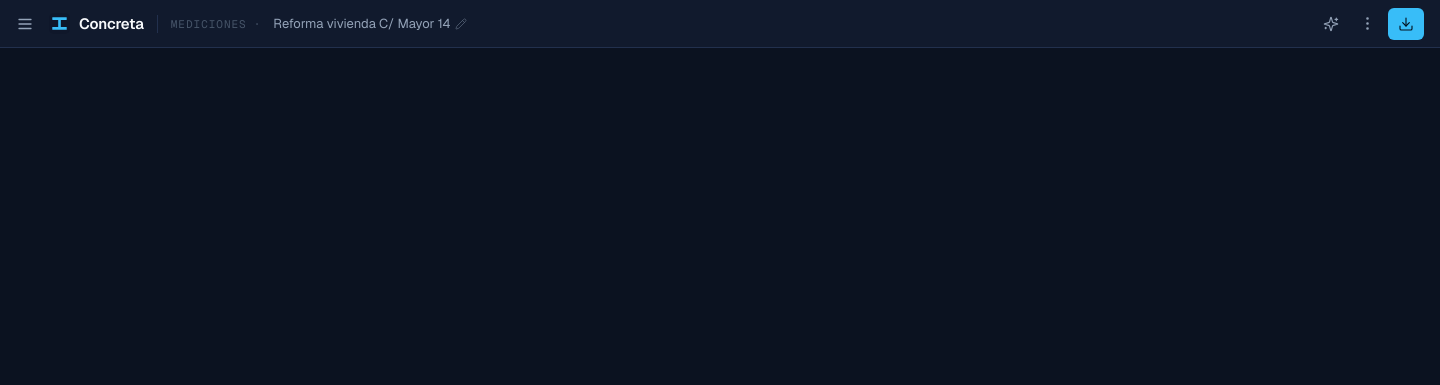
Test case: TopBar — menú «Más» en móvil (la fila de acciones pisaba la marca) › Deshacer/Rehacer viven en el menú (en el teléfono no hay Ctrl+Z)
Click the button named "Más acciones" at (1367, 24), box [1352,8,1382,38]
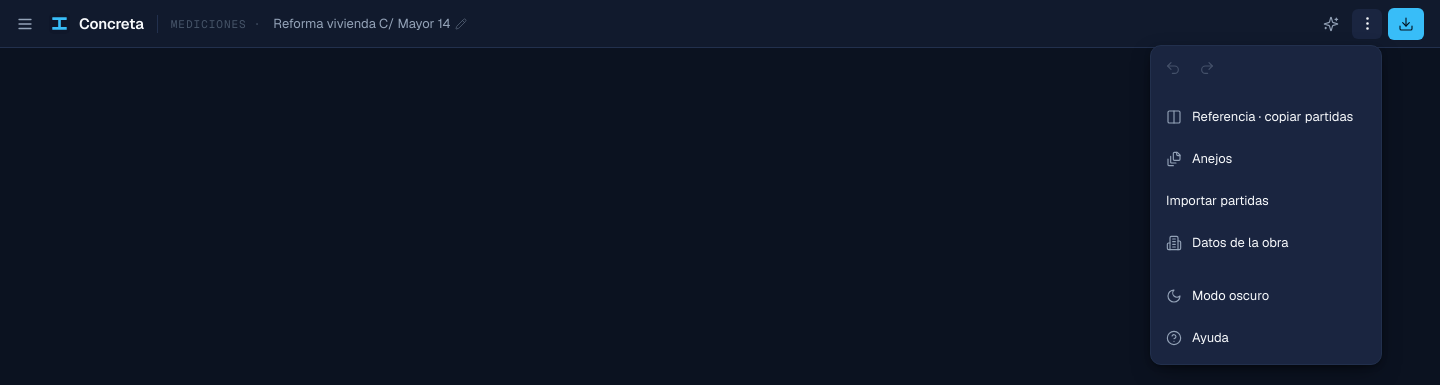
Check: the button named "Deshacer" is shown, box [1158,52,1188,82]
Check: the button named "Rehacer" is shown, box [1192,52,1222,82]
